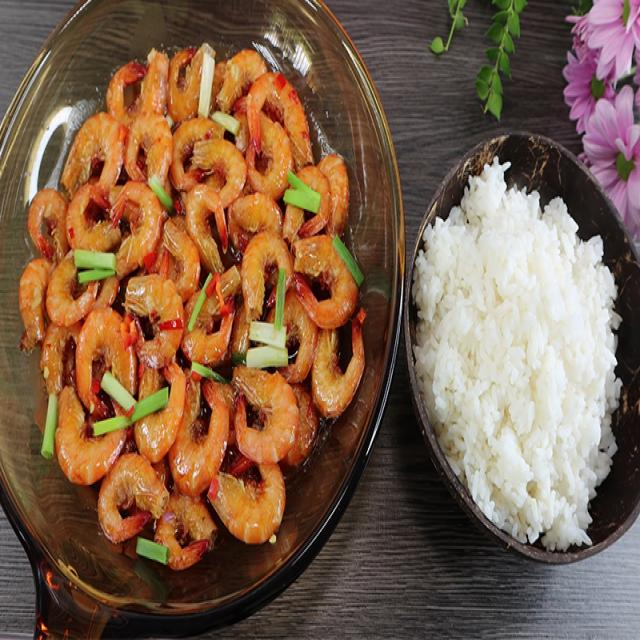com: (414, 159, 620, 549)
tom: (19, 44, 366, 567)
